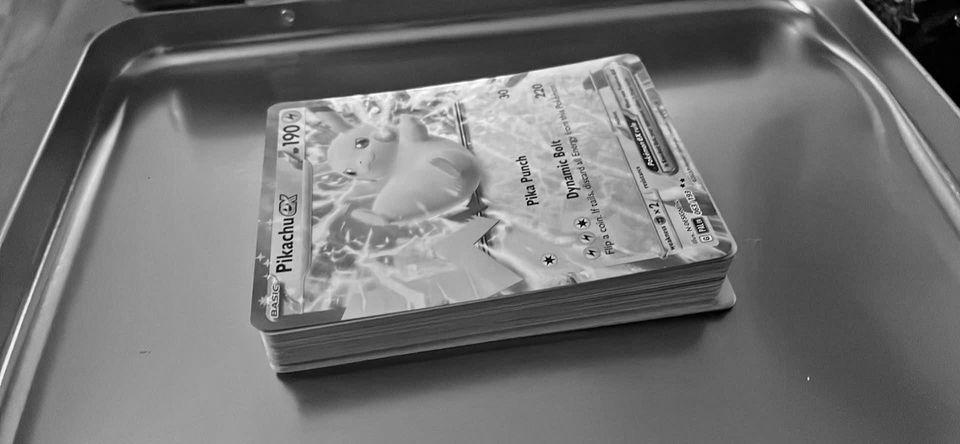card: (248, 52, 733, 332)
